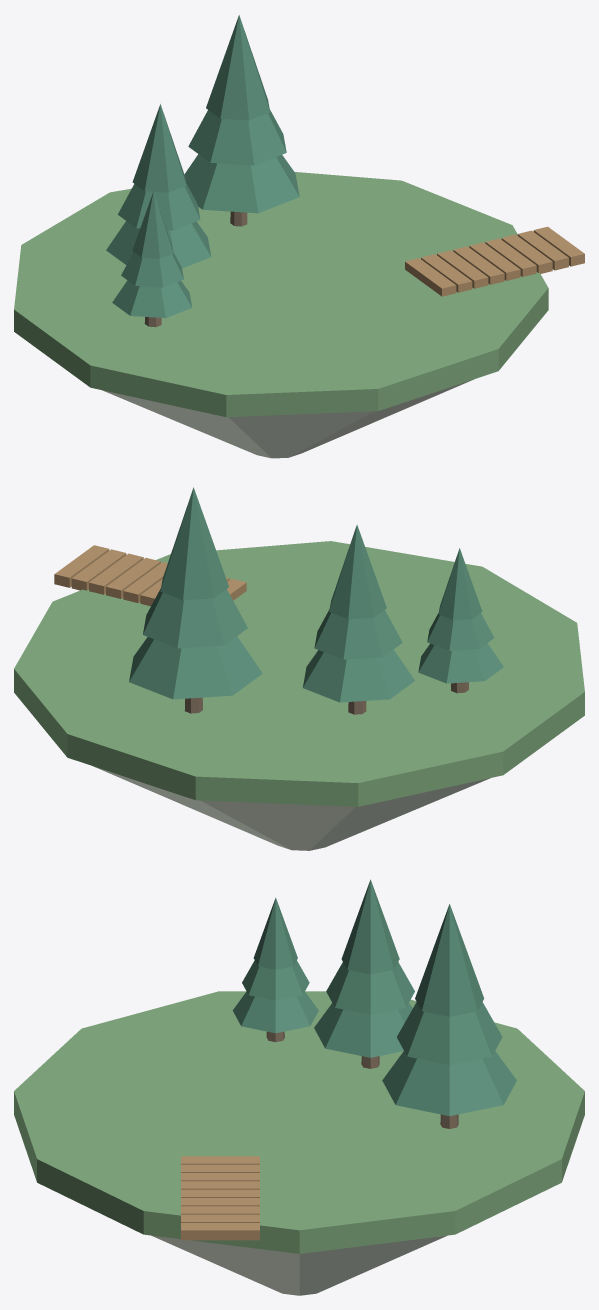
The model's file is demo-wind-island.glb.
3 renders of one model, top to bottom at view 1: azimuth 30°, elevation 25°; view 2: azimuth 150°, elevation 25°; view 3: azimuth 270°, elevation 25°, orthographic. The views are drawn at different scales.
Parts seen in each view (by area): view 1: Grass cap, Pine branches (×9), Pier plank (×9), Floating island; view 2: Grass cap, Pine branches (×9), Floating island, Pier plank (×5); view 3: Grass cap, Pine branches (×9), Floating island, Pier plank (×9).
Part boxes in pixels (x1,y1,x2,y2): Grass cap: (14, 172, 548, 417); Pine branches (×9): (106, 15, 299, 318); Pier plank (×9): (405, 226, 584, 296); Floating island: (102, 379, 473, 458); Grass cap: (14, 541, 584, 806); Pine branches (×9): (129, 487, 503, 702); Floating island: (93, 766, 490, 850); Pier plank (×5): (54, 545, 167, 602); Grass cap: (14, 991, 584, 1253); Pine branches (×9): (232, 879, 516, 1116); Floating island: (152, 1235, 446, 1295); Pier plank (×9): (181, 1156, 259, 1240).
Bounding box in the file's own units: 7.41 × 5.53 × 7.23.
